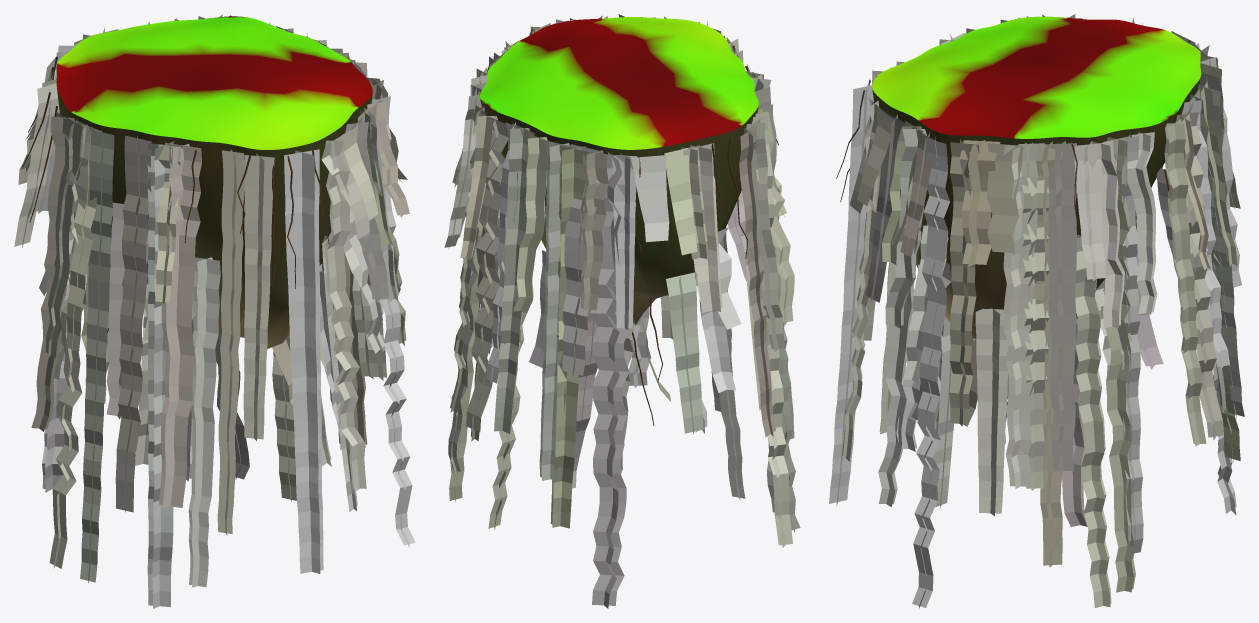
The model's file is SM_H10_Floater04.fbx.
3 views of the same model, side by side, from view 1: azimuth 30°, elevation 25°; view 2: azimuth 150°, elevation 25°; view 3: azimuth 270°, elevation 25° (orthographic). The views are drawn at different scales.
Parts seen in each view (by area): view 1: SM_H10_Floater04_Ivy, SM_H10_Floater04; view 2: SM_H10_Floater04_Ivy, SM_H10_Floater04; view 3: SM_H10_Floater04_Ivy, SM_H10_Floater04.
Boxes of the visible parts, x1,y1,x2,y2 form: SM_H10_Floater04_Ivy: [14, 14, 415, 608]; SM_H10_Floater04: [56, 16, 372, 348]; SM_H10_Floater04_Ivy: [444, 14, 800, 608]; SM_H10_Floater04: [480, 17, 758, 325]; SM_H10_Floater04_Ivy: [829, 14, 1244, 608]; SM_H10_Floater04: [872, 16, 1201, 338].
Size of the model in its own units: 21.53 by 30.04 by 23.12.
